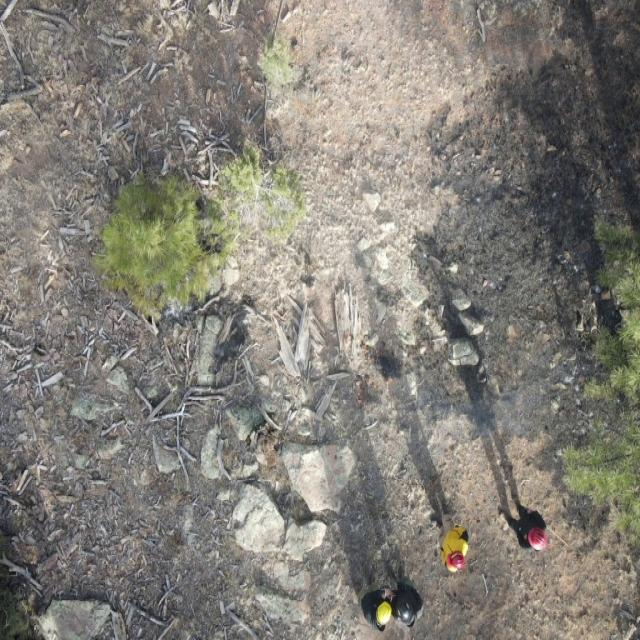fire: (350, 371, 370, 414), (360, 344, 384, 364), (370, 374, 393, 394)
smoke: (376, 370, 552, 446)
